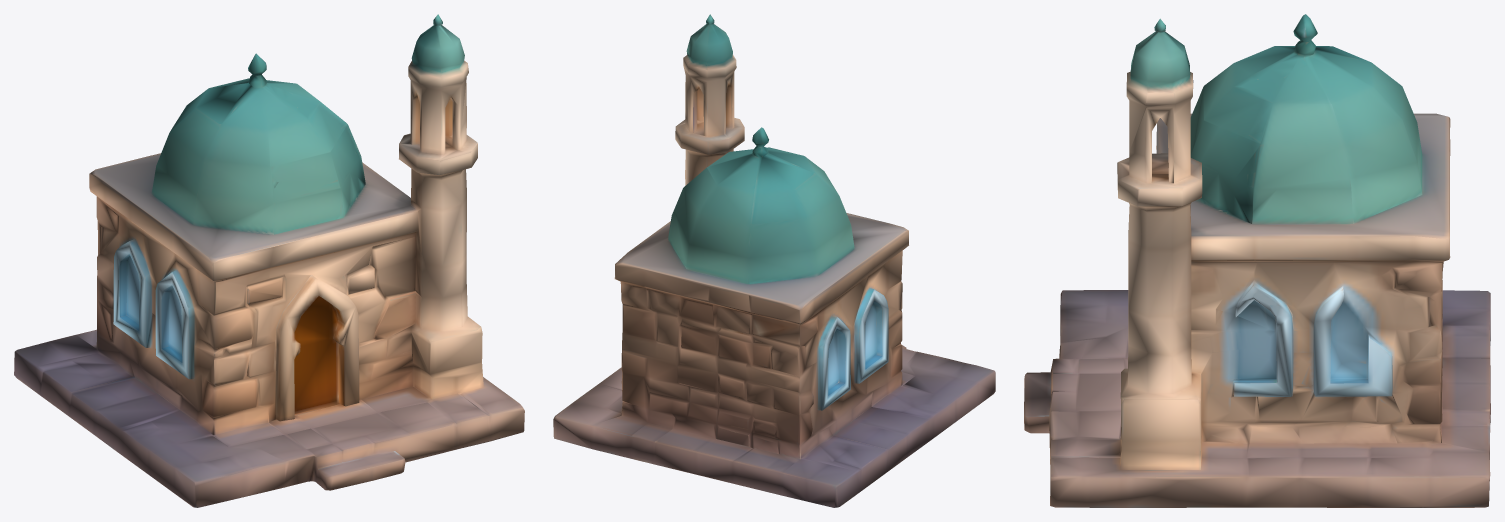
Rendered from tapinak.glb.
The picture shows the model from 3 angles, left to right: view 1: azimuth 30°, elevation 25°; view 2: azimuth 150°, elevation 25°; view 3: azimuth 270°, elevation 25°; orthographic projection. The views are drawn at different scales.
Visible parts, largest first — view 1: node_0; view 2: node_0; view 3: node_0.
Boxes of the visible parts, x1,y1,x2,y2 form: node_0: (14,14,524,507); node_0: (553,14,995,507); node_0: (1024,14,1490,507).
Size of the model in its own units: 0.6512 by 0.7545 by 0.6834.
Materials: 1 (1 with a texture image).
